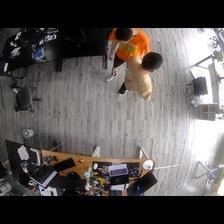normal: (120, 53, 161, 101)
